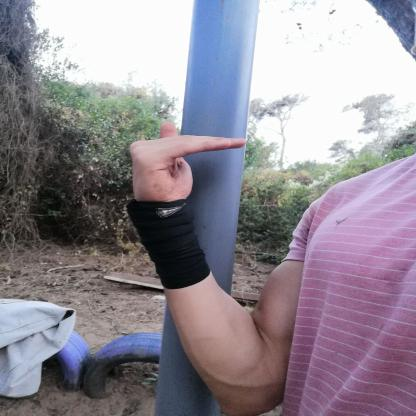KHAA: (112, 111, 262, 215)
